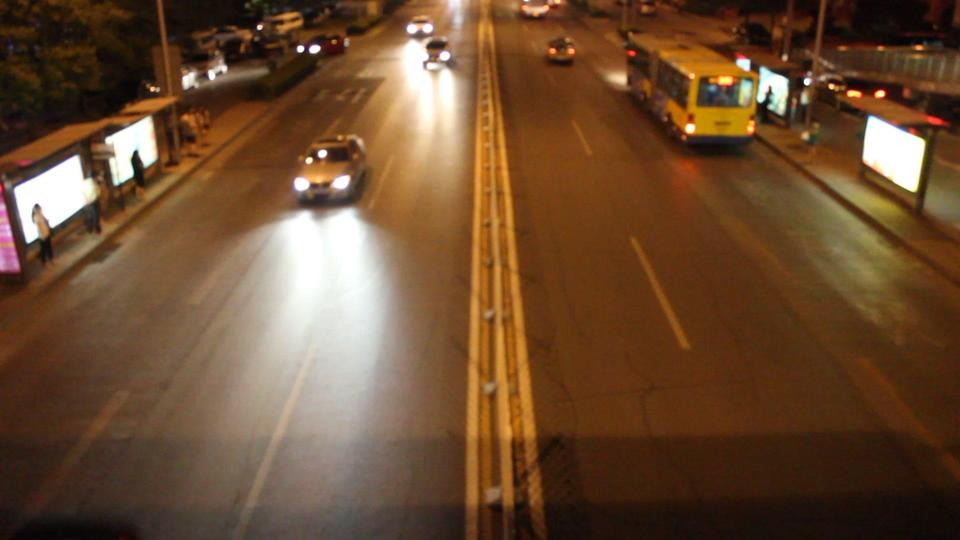bus: (627, 29, 760, 143)
car: (290, 133, 370, 208), (296, 32, 350, 57), (423, 37, 456, 68), (546, 34, 578, 63), (516, 1, 551, 18), (405, 14, 434, 34)
truck: (263, 12, 306, 41)
